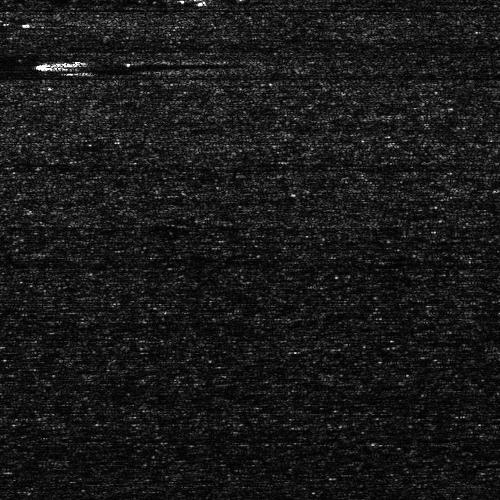rock: (21, 59, 94, 66), (63, 69, 94, 72)
shadow: (58, 59, 212, 66), (79, 69, 157, 72)
